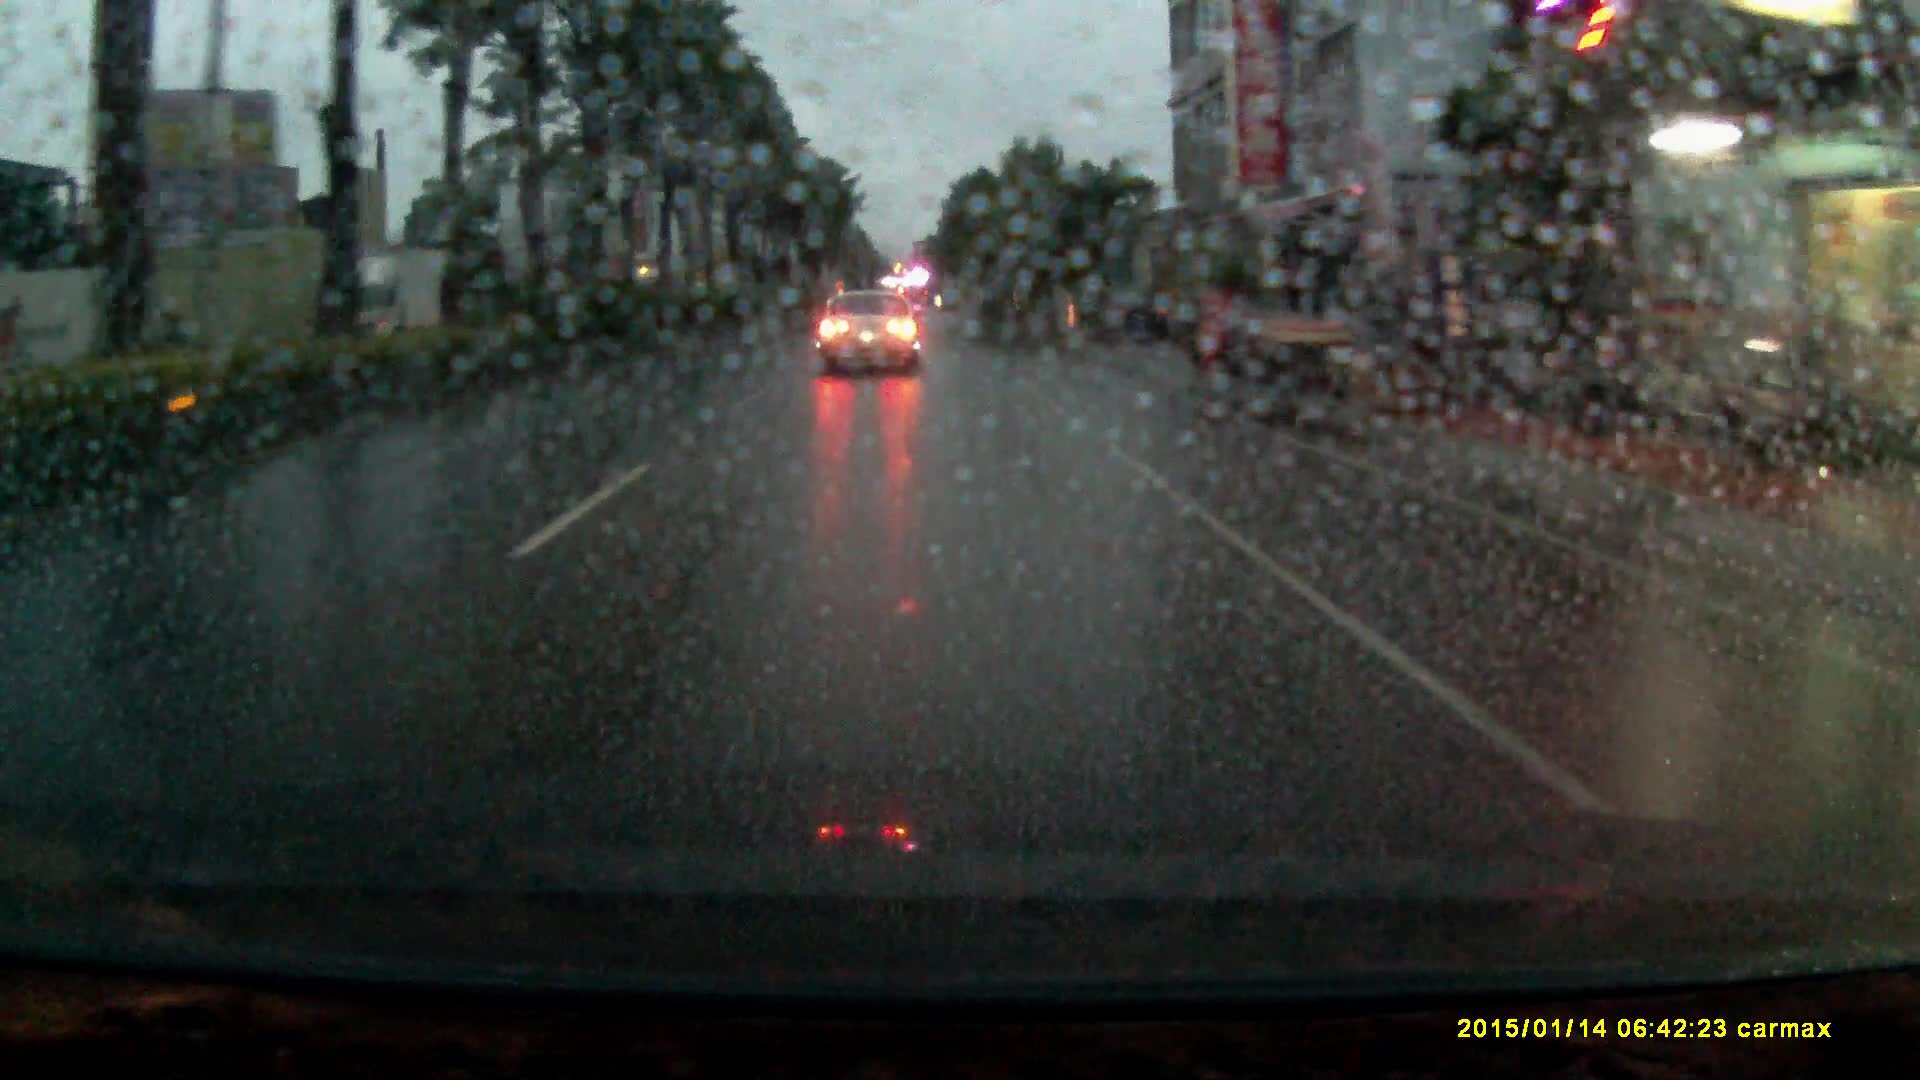vehicle: (313, 244, 473, 332), (819, 287, 920, 378), (1089, 290, 1171, 343)
